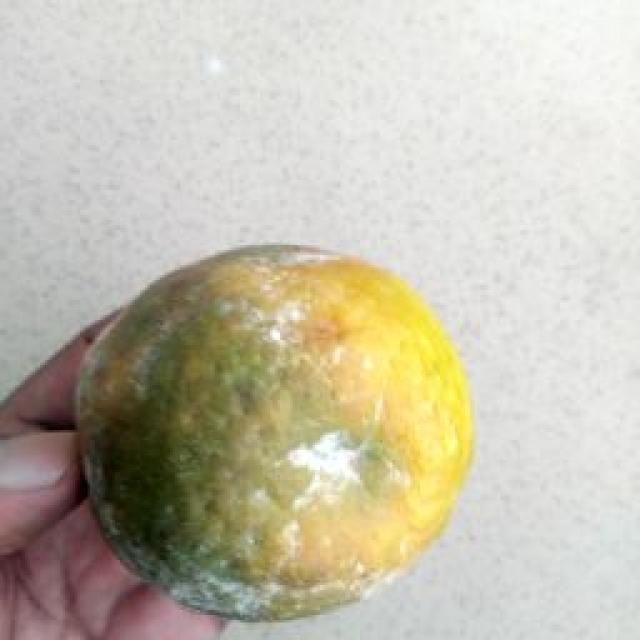Bad_Orange: (78, 245, 472, 619)
